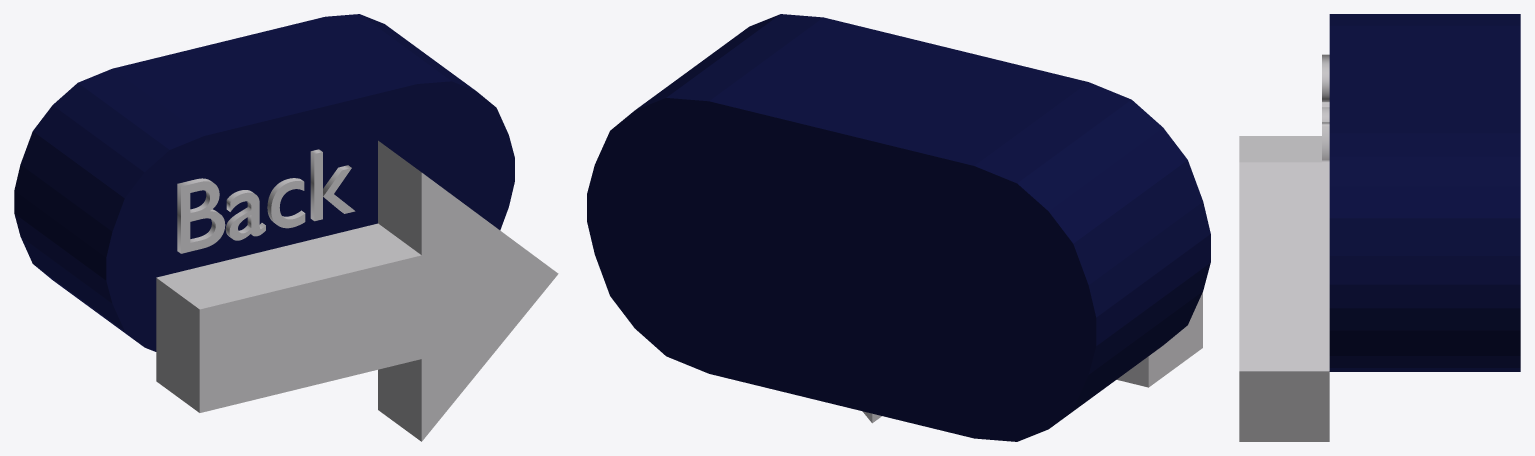
File: BackR.glb
3 renders of one model, left to right at view 1: azimuth 30°, elevation 25°; view 2: azimuth 150°, elevation 25°; view 3: azimuth 270°, elevation 25°, orthographic. The views are drawn at different scales.
Parts seen in each view (by area): view 1: Plane.001, Plane.006, Text.004; view 2: Plane.001, Plane.006; view 3: Plane.001, Plane.006, Text.004.
Part boxes in pixels (box(x1,y1,x2,y2)): Plane.001: box(14, 14, 514, 351); Plane.006: box(156, 140, 558, 441); Text.004: box(177, 149, 355, 253); Plane.001: box(587, 14, 1210, 441); Plane.006: box(862, 292, 1202, 423); Plane.001: box(1329, 14, 1520, 371); Plane.006: box(1239, 136, 1329, 441); Text.004: box(1322, 54, 1329, 162).
Size of the model in its own units: 0.2652 by 0.1962 by 0.1524.
